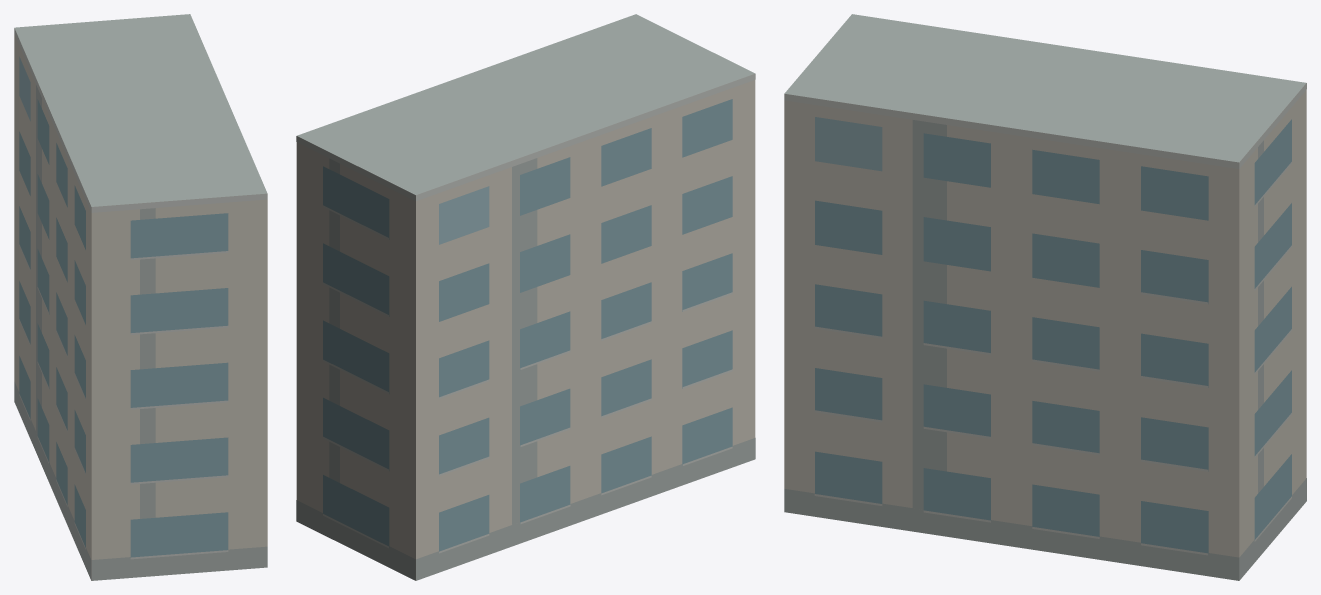
Rendered from residential-68dee746-8daa-44cb-adef-dec10290a45c.glb.
3 views of the same model, side by side, from view 1: azimuth 30°, elevation 25°; view 2: azimuth 150°, elevation 25°; view 3: azimuth 270°, elevation 25° (orthographic). The views are drawn at different scales.
Parts seen in each view (by area): view 1: residential-68dee746-8daa-44cb-adef-dec10290a45c.tmp; view 2: residential-68dee746-8daa-44cb-adef-dec10290a45c.tmp; view 3: residential-68dee746-8daa-44cb-adef-dec10290a45c.tmp.
Part boxes in pixels (x1,y1,x2,y2): residential-68dee746-8daa-44cb-adef-dec10290a45c.tmp: [14, 14, 267, 580]; residential-68dee746-8daa-44cb-adef-dec10290a45c.tmp: [296, 14, 755, 580]; residential-68dee746-8daa-44cb-adef-dec10290a45c.tmp: [784, 14, 1306, 580].
Size of the model in its own units: 11.61 by 15.25 by 17.27.
